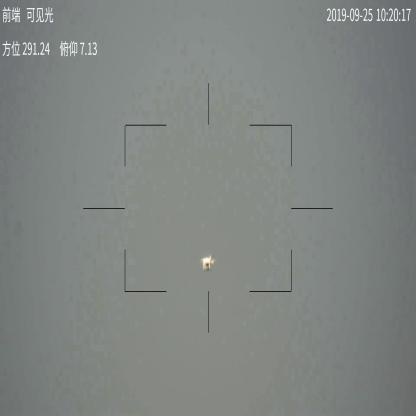uav: (200, 251, 213, 272)
